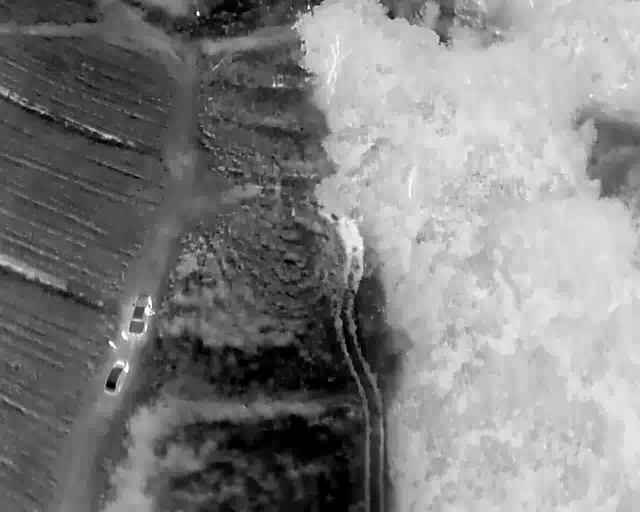car: (127, 295, 152, 335), (103, 360, 129, 394)
person: (108, 340, 116, 350), (120, 331, 127, 341)
